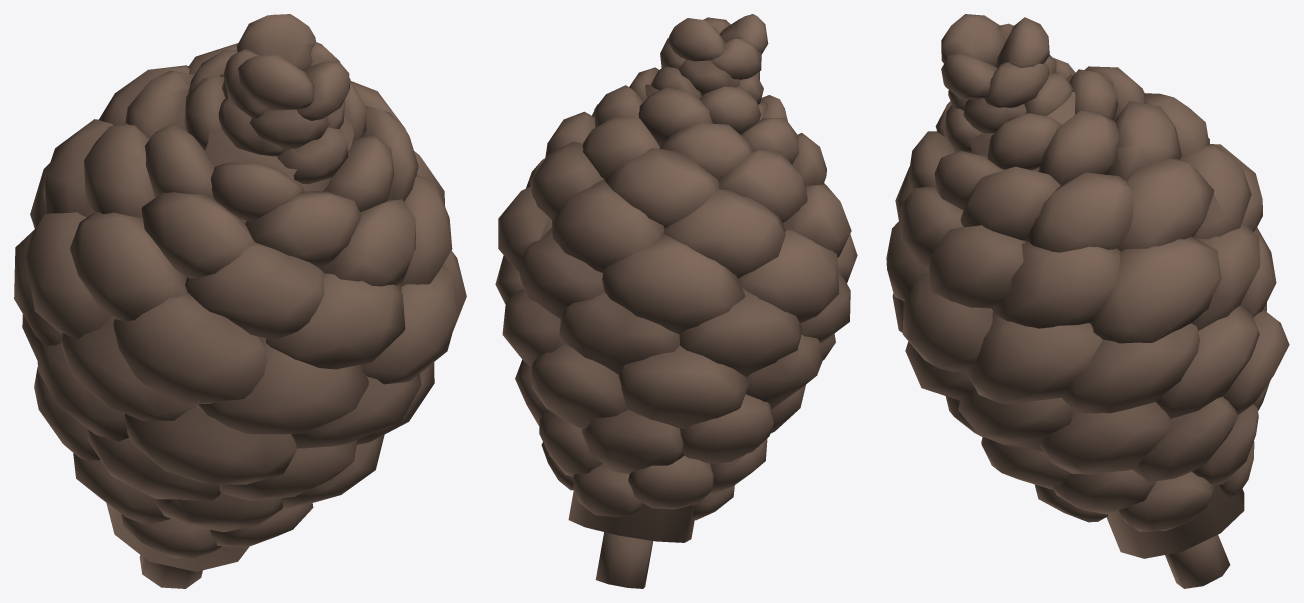
Rendered from pinecone_2.glb.
The picture shows the model from 3 angles, left to right: view 1: azimuth 30°, elevation 25°; view 2: azimuth 150°, elevation 25°; view 3: azimuth 270°, elevation 25°; orthographic projection. The views are drawn at different scales.
Parts seen in each view (by area): view 1: pinecone_2; view 2: pinecone_2; view 3: pinecone_2.
Part boxes in pixels (x1,y1,x2,y2): pinecone_2: (14, 14, 466, 588); pinecone_2: (495, 14, 857, 588); pinecone_2: (886, 14, 1289, 588).
Size of the model in its own units: 0.0651 by 0.1025 by 0.0664.
